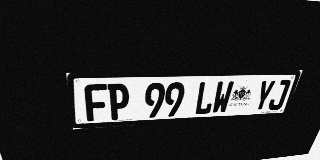9: (163, 82, 186, 117), (144, 82, 166, 118)
F: (84, 84, 108, 121)
J: (267, 80, 292, 111)
L: (194, 81, 217, 115)
P: (107, 83, 129, 120)
W: (211, 81, 234, 114)
Y: (252, 80, 276, 111)
